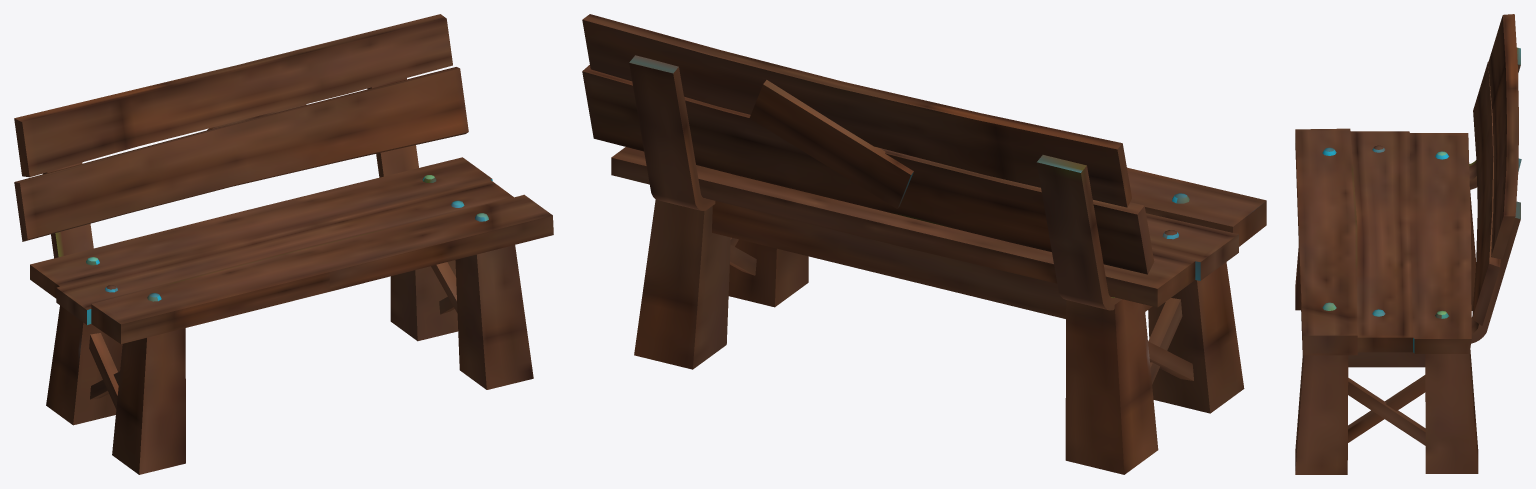
File: Bench.fbx
3 views of the same model, side by side, from view 1: azimuth 30°, elevation 25°; view 2: azimuth 150°, elevation 25°; view 3: azimuth 270°, elevation 25° (orthographic). The views are drawn at different scales.
Visible parts, largest first — view 1: Bench; view 2: Bench; view 3: Bench.
Part boxes in pixels (x1,y1,x2,y2): Bench: (14, 14, 553, 474); Bench: (582, 14, 1266, 474); Bench: (1295, 14, 1521, 474).
Size of the model in its own units: 49.19 by 29.12 by 22.27.
